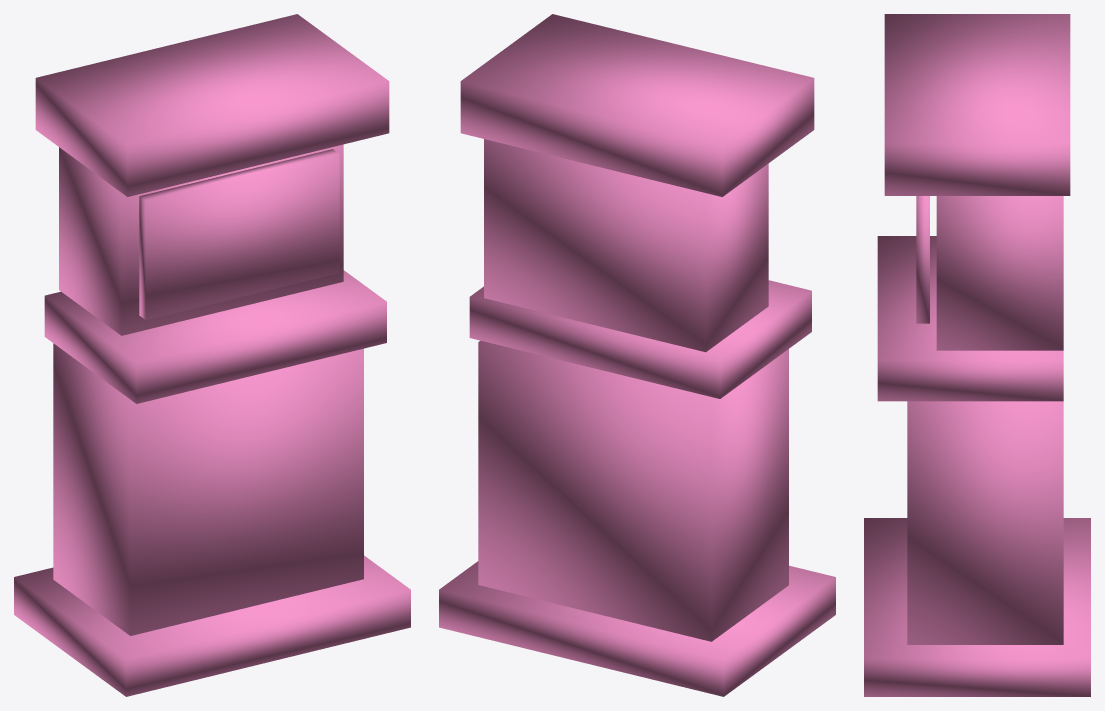
File: cyberpunk-holo-kiosk.glb
3 renders of one model, left to right at view 1: azimuth 30°, elevation 25°; view 2: azimuth 150°, elevation 25°; view 3: azimuth 270°, elevation 25°, orthographic.
Parts seen in each view (by area): view 1: cyberpunk-holo-kiosk; view 2: cyberpunk-holo-kiosk; view 3: cyberpunk-holo-kiosk.
Part boxes in pixels (x1,y1,x2,y2): cyberpunk-holo-kiosk: (14,14,410,696); cyberpunk-holo-kiosk: (439,14,835,696); cyberpunk-holo-kiosk: (864,14,1090,696).
Bounding box in the file's own units: 1.1 × 2 × 0.75.
